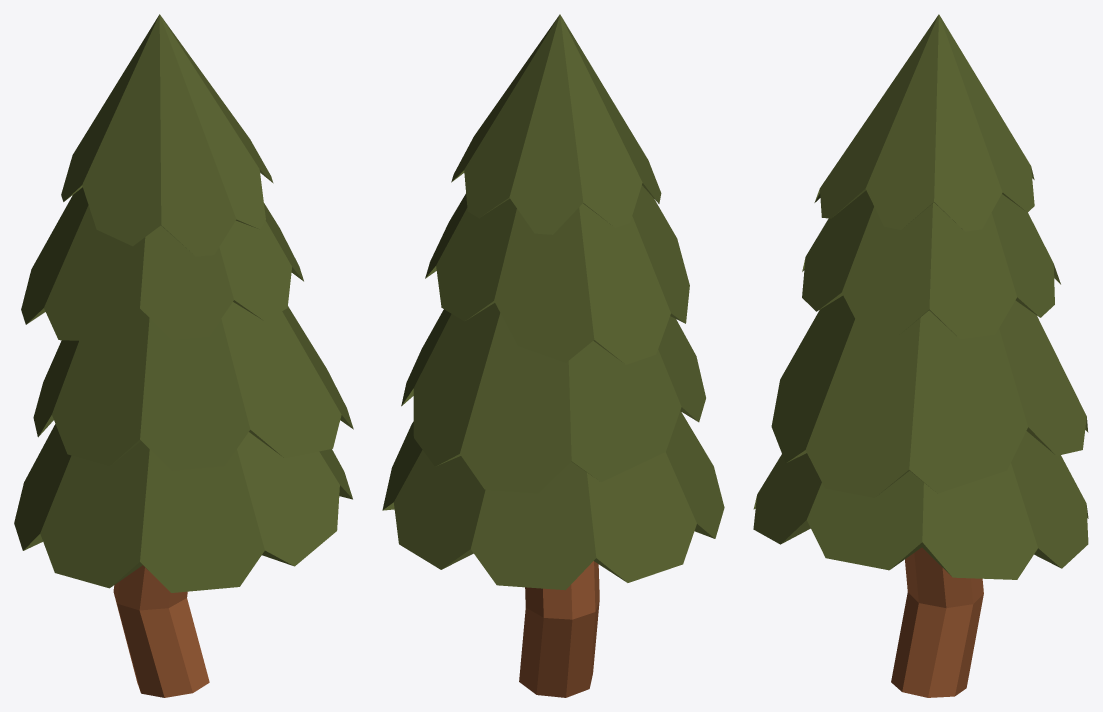
The model's file is env-tree3.fbx.
3 views of the same model, side by side, from view 1: azimuth 30°, elevation 25°; view 2: azimuth 150°, elevation 25°; view 3: azimuth 270°, elevation 25° (orthographic).
Visible parts, largest first — view 1: ref_agac.000; view 2: ref_agac.000; view 3: ref_agac.000.
Part boxes in pixels (x1=…): ref_agac.000: x1=14, y1=14, x2=353, y2=697; ref_agac.000: x1=382, y1=14, x2=724, y2=697; ref_agac.000: x1=753, y1=14, x2=1088, y2=697.
Bounding box in the file's own units: 177 × 392 × 177.
